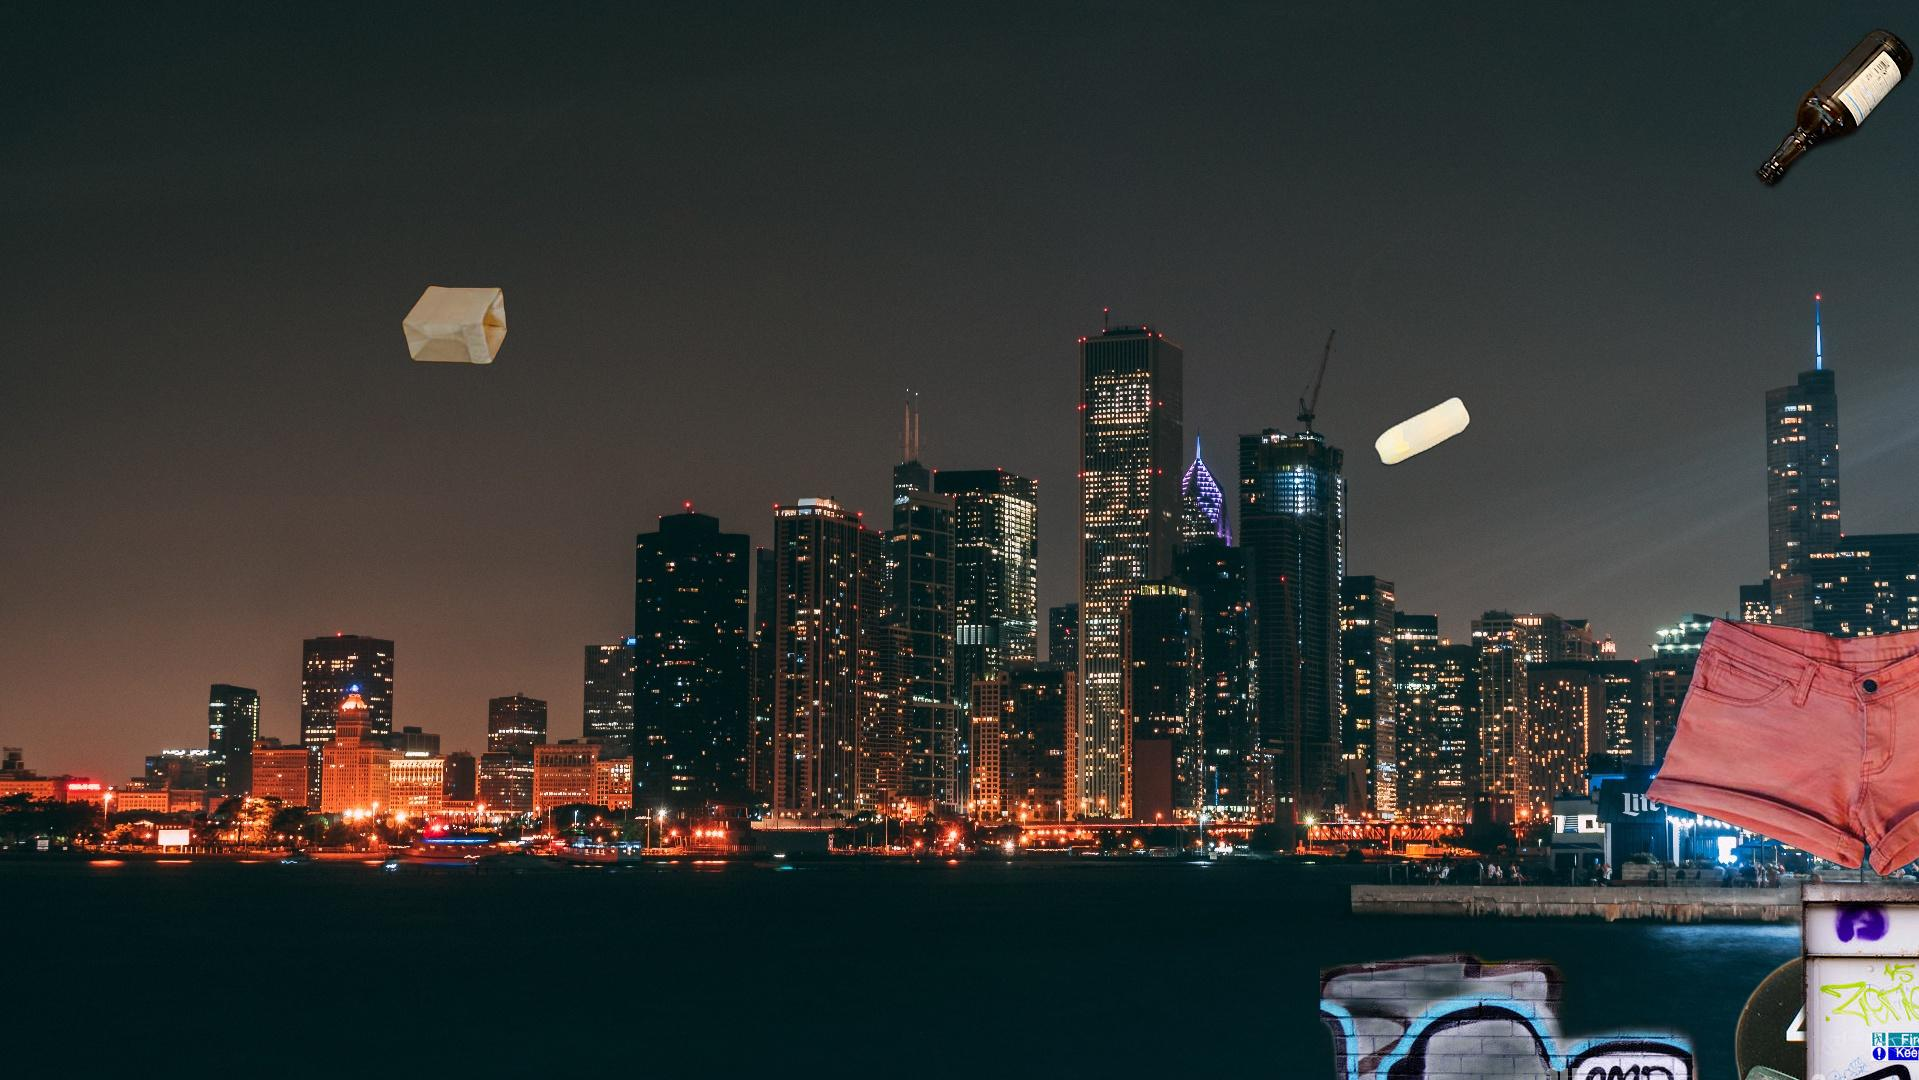battery: (1719, 940, 1919, 1080), (1671, 1079, 1811, 1080)
clothes: (1640, 608, 1919, 880)
glass: (1733, 684, 1919, 1080), (1750, 22, 1916, 198)
paper-bag: (399, 284, 510, 367)
plastic-bottles: (1369, 390, 1475, 472)
trashbox-cardboard: (1321, 872, 1919, 1080)
